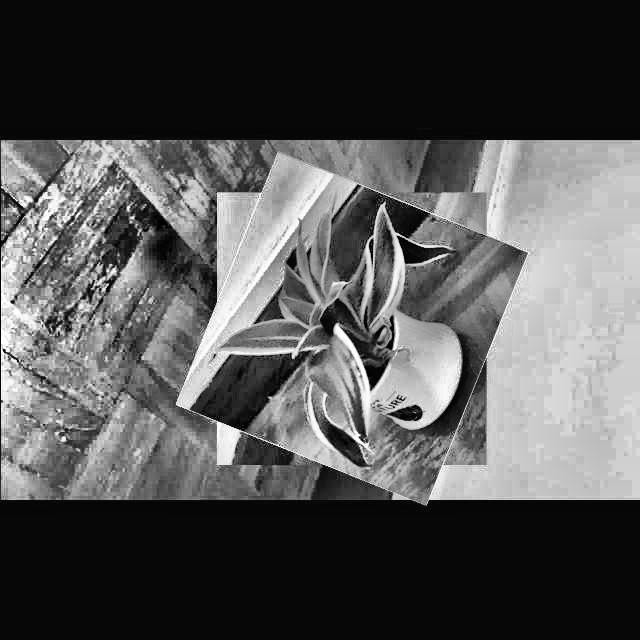plants: (196, 172, 507, 486)
